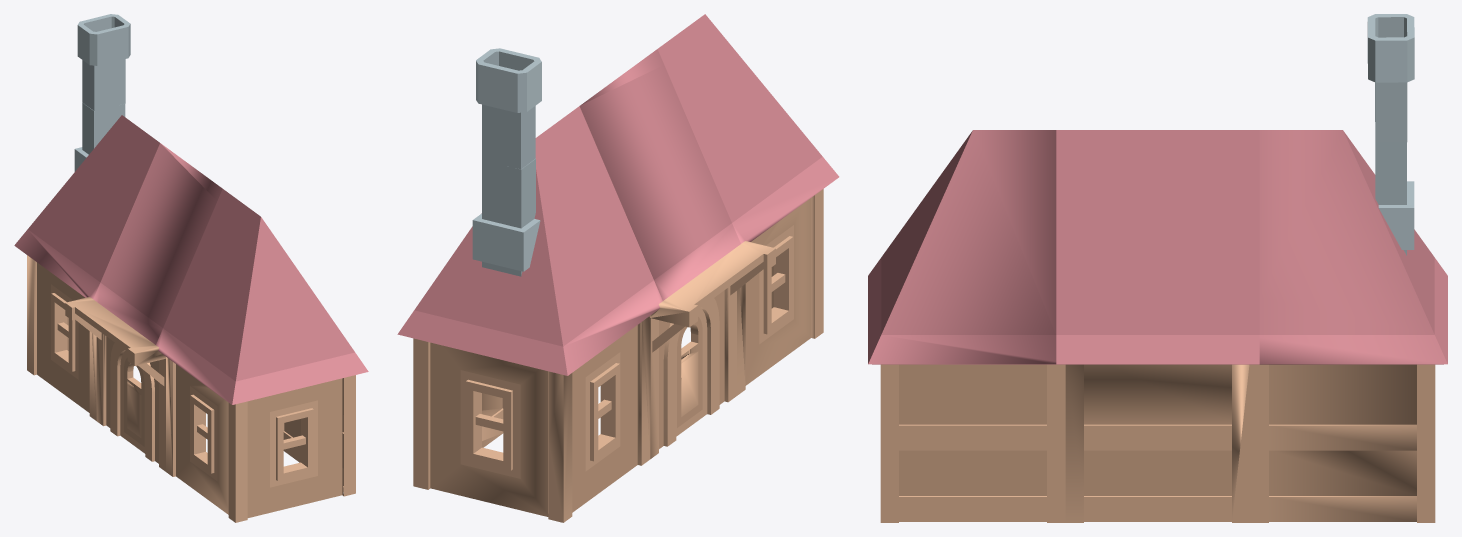
The model's file is BasicHouse6.fbx.
3 views of the same model, side by side, from view 1: azimuth 30°, elevation 25°; view 2: azimuth 150°, elevation 25°; view 3: azimuth 270°, elevation 25° (orthographic). The views are drawn at different scales.
Visible parts, largest first — view 1: roofHighGable.001, chimneyTop.002; view 2: roofHighGable.001, chimneyTop.002; view 3: roofHighGable.001, chimneyTop.002.
Boxes of the visible parts, x1,y1,x2,y2 form: roofHighGable.001: (14, 115, 368, 522); chimneyTop.002: (74, 14, 130, 171); roofHighGable.001: (397, 14, 839, 522); chimneyTop.002: (472, 48, 541, 276); roofHighGable.001: (868, 130, 1447, 522); chimneyTop.002: (1367, 14, 1414, 255).
Bounding box in the file's own units: 133 × 272 × 314.
